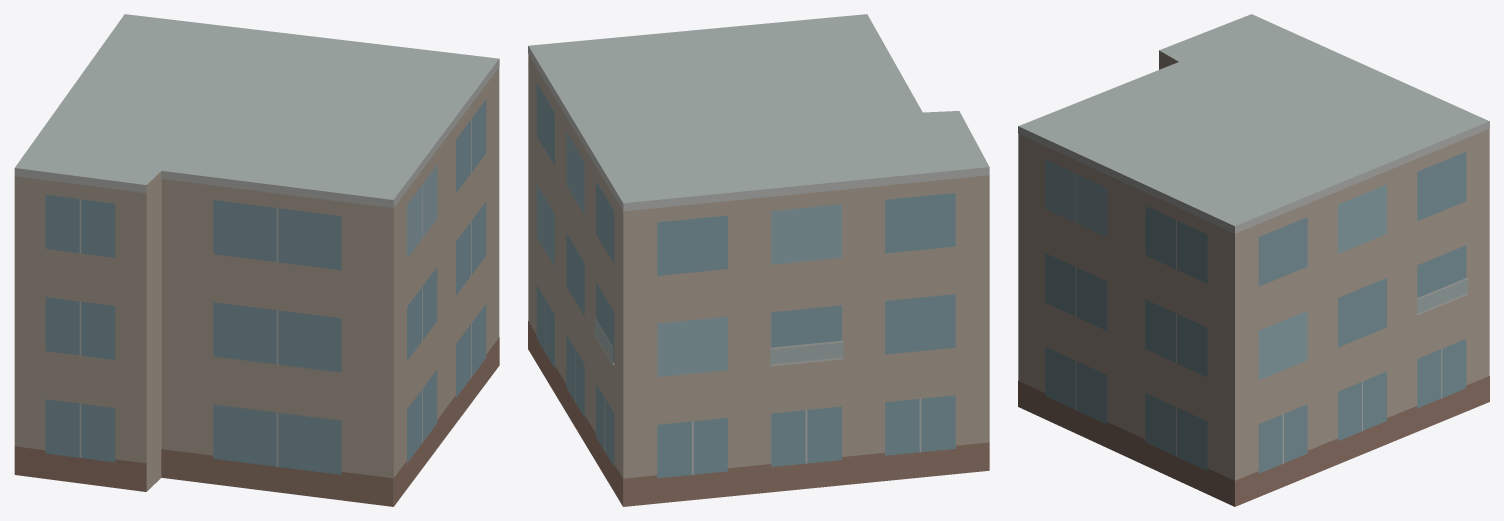
The model's file is survey-upis-32719232.glb.
3 views of the same model, side by side, from view 1: azimuth 30°, elevation 25°; view 2: azimuth 150°, elevation 25°; view 3: azimuth 270°, elevation 25° (orthographic). The views are drawn at different scales.
Parts seen in each view (by area): view 1: survey-upis-32719232.tmp; view 2: survey-upis-32719232.tmp; view 3: survey-upis-32719232.tmp.
Part boxes in pixels (bbox=[...]): survey-upis-32719232.tmp: bbox=[14, 14, 499, 506]; survey-upis-32719232.tmp: bbox=[528, 14, 989, 506]; survey-upis-32719232.tmp: bbox=[1018, 14, 1489, 506].
Bounding box in the file's own units: 14.85 × 9.15 × 13.94.
